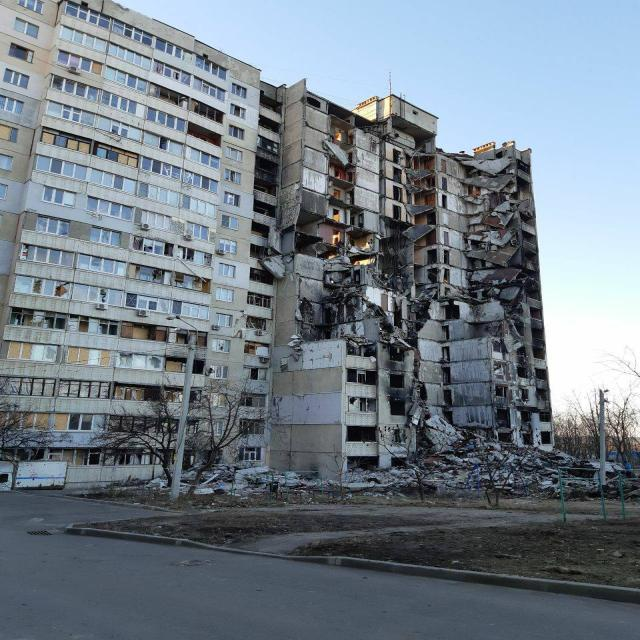building: (0, 0, 273, 490)
roof: (1, 0, 556, 486)
